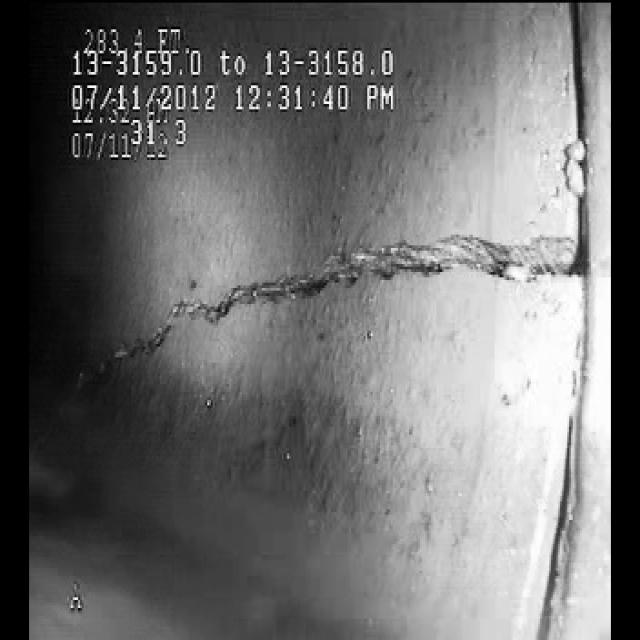Fracture: (142, 195, 548, 338)
